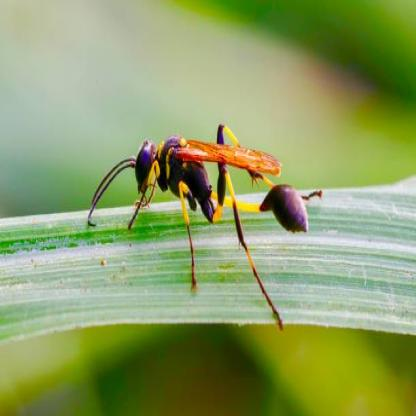sawfly: (85, 120, 323, 341)
